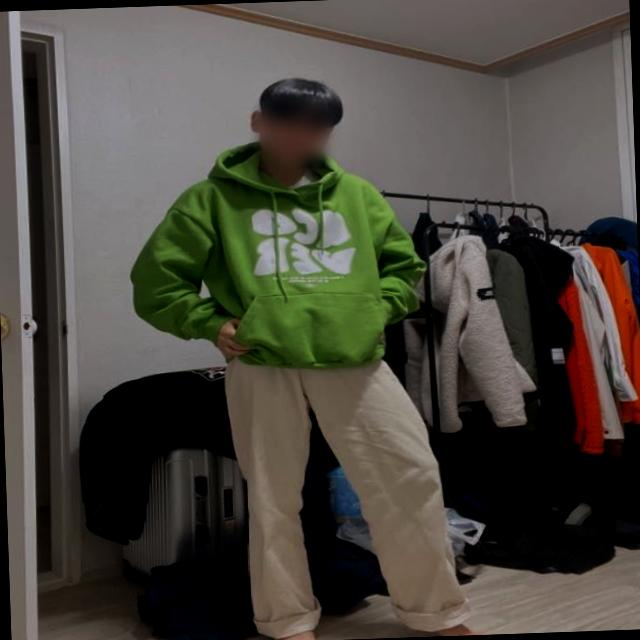cottonpants: (224, 348, 466, 640)
hoodies: (124, 134, 425, 376)
